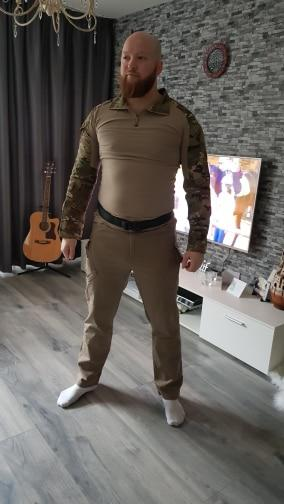pants: (77, 213, 185, 399)
